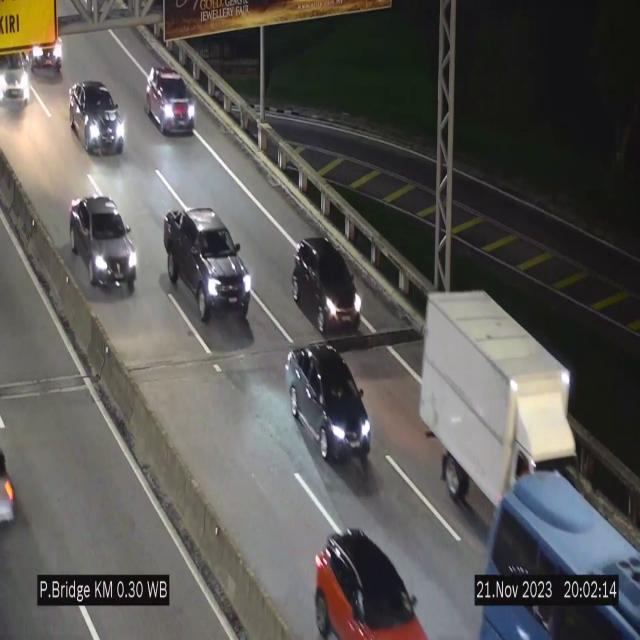Bus: (468, 469, 640, 640)
Car: (300, 514, 430, 640), (282, 334, 378, 462), (164, 208, 252, 322), (291, 236, 362, 332), (70, 195, 137, 295), (69, 82, 125, 154), (145, 66, 195, 133), (0, 38, 34, 112), (24, 23, 66, 77)
Truck: (423, 290, 581, 524)
